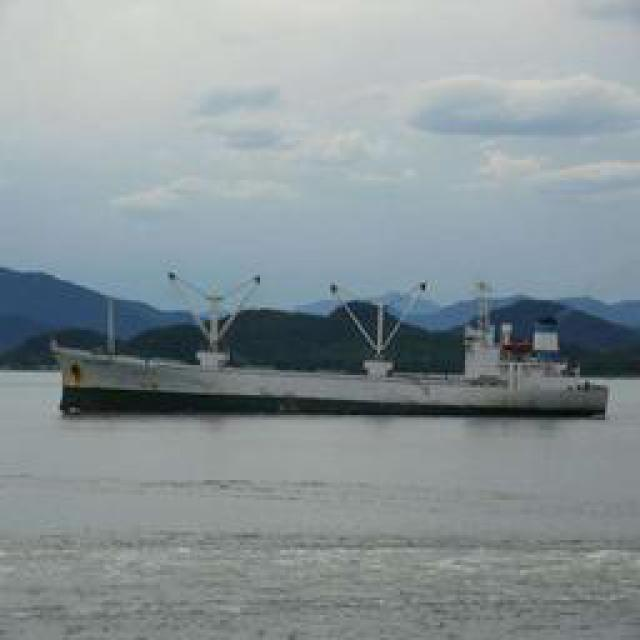Ship: (60, 324, 603, 419)
